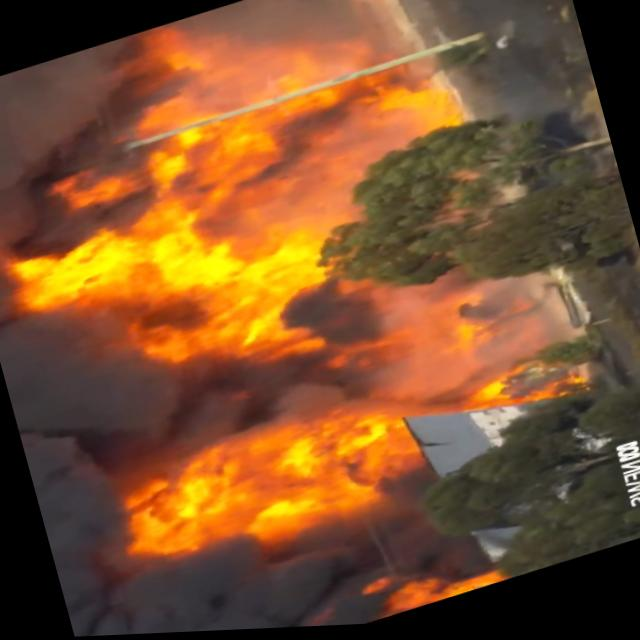Fire: (0, 0, 518, 463), (107, 382, 430, 593), (450, 344, 598, 434), (357, 546, 496, 626)
